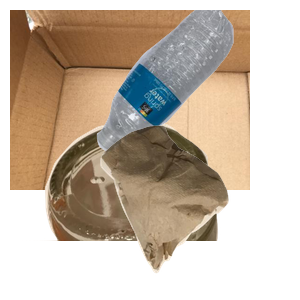cardboard: (10, 10, 250, 190)
glass: (22, 120, 233, 300)
plastic: (94, 10, 300, 154)
trash: (98, 123, 300, 300)
